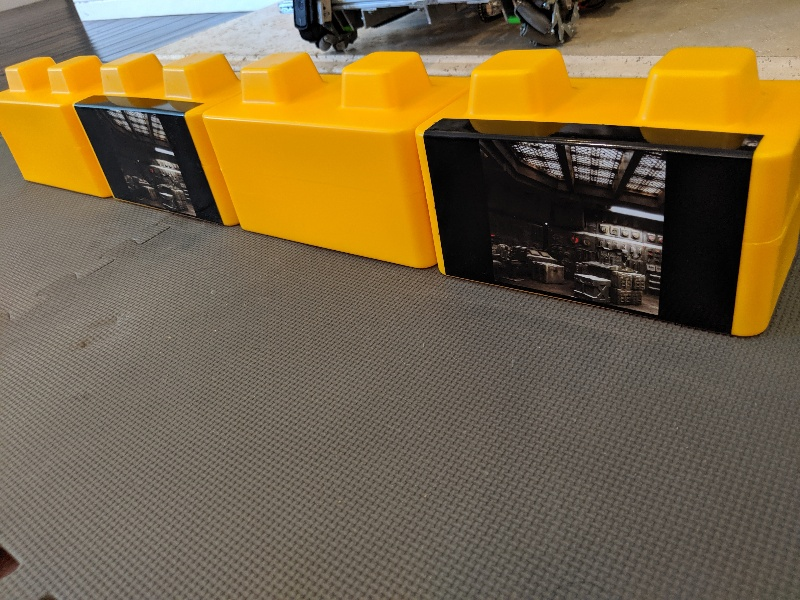Skystone: (415, 105, 772, 339)
